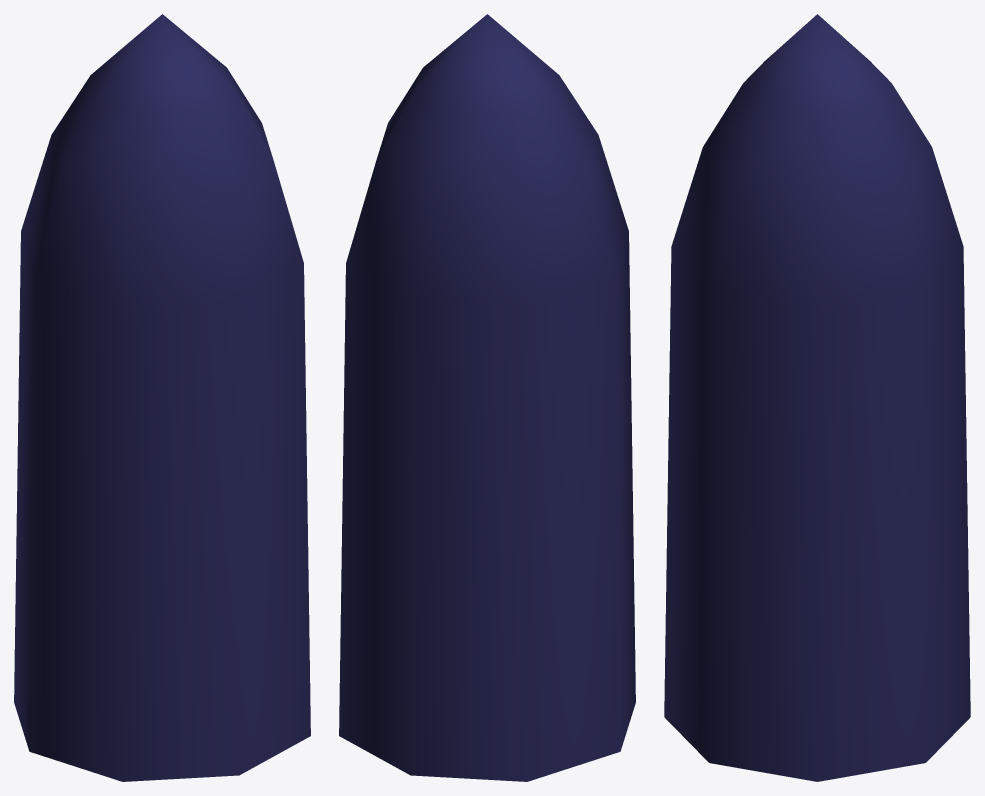
Rendered from Projectile.fbx.
3 views of the same model, side by side, from view 1: azimuth 30°, elevation 25°; view 2: azimuth 150°, elevation 25°; view 3: azimuth 270°, elevation 25° (orthographic).
Visible parts, largest first — view 1: pCylinder2; view 2: pCylinder2; view 3: pCylinder2.
Part boxes in pixels (x1,y1,x2,y2): pCylinder2: (14,14,310,781); pCylinder2: (339,14,635,781); pCylinder2: (664,14,970,781).
Size of the model in its own units: 39.57 by 100 by 39.57.
